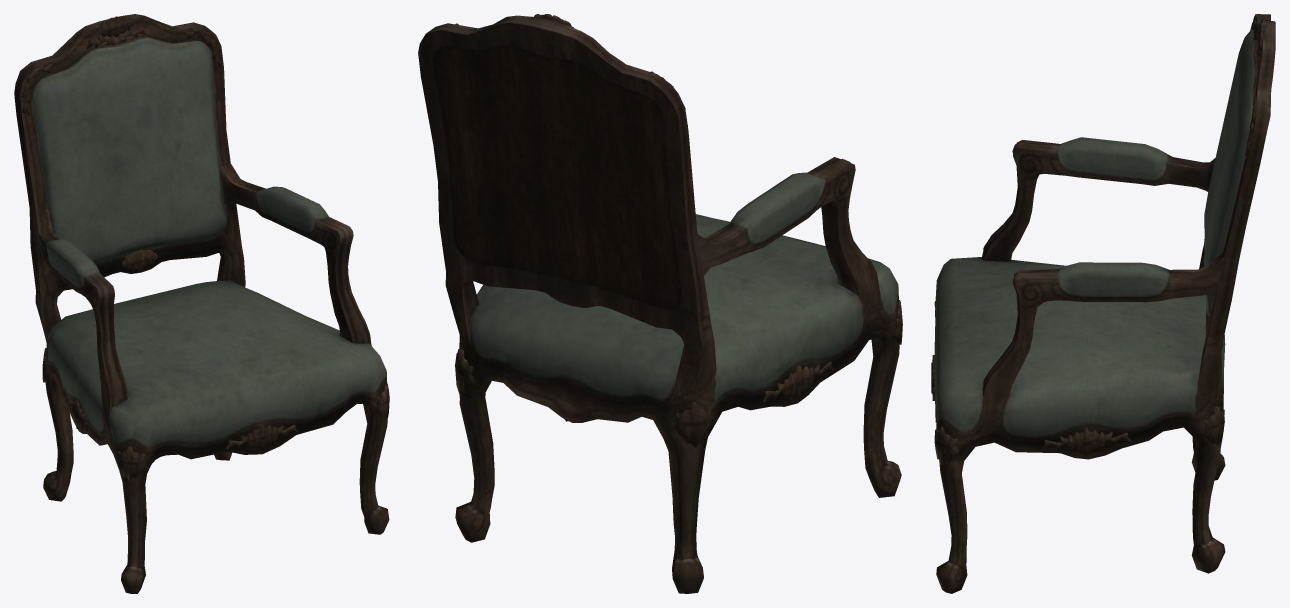
The model's file is GreenChair_01_1k.gltf.
The picture shows the model from 3 angles, left to right: view 1: azimuth 30°, elevation 25°; view 2: azimuth 150°, elevation 25°; view 3: azimuth 270°, elevation 25°; orthographic projection. The views are drawn at different scales.
Visible parts, largest first — view 1: GreenChair_01; view 2: GreenChair_01; view 3: GreenChair_01.
Boxes of the visible parts, x1,y1,x2,y2 form: GreenChair_01: (14,14,389,593); GreenChair_01: (418,14,902,593); GreenChair_01: (931,14,1275,593).
Size of the model in its own units: 0.6731 by 1.06 by 0.6644.
Materials: 1 (1 with a texture image).
